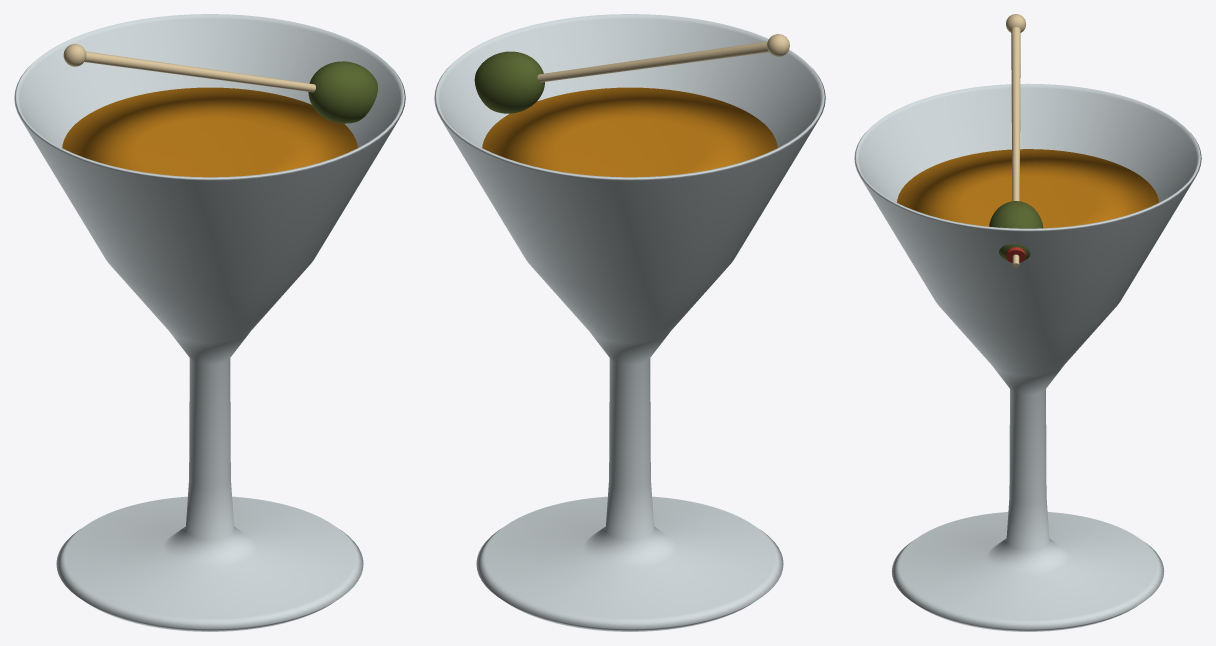
Rendered from cocktail-glass.glb.
3 views of the same model, side by side, from view 1: azimuth 30°, elevation 25°; view 2: azimuth 150°, elevation 25°; view 3: azimuth 270°, elevation 25° (orthographic). The views are drawn at different scales.
Parts seen in each view (by area): view 1: glass_bowl, cocktail_fill, olive, cocktail_pick; view 2: glass_bowl, cocktail_fill, olive, cocktail_pick; view 3: glass_bowl, cocktail_fill, cocktail_pick, olive.
Boxes of the visible parts, left/top/right/bottom form: glass_bowl: left=14, top=14, right=405, bottom=631; cocktail_fill: left=62, top=87, right=357, bottom=177; olive: left=308, top=61, right=377, bottom=123; cocktail_pick: left=84, top=51, right=315, bottom=92; glass_bowl: left=434, top=14, right=825, bottom=631; cocktail_fill: left=482, top=87, right=777, bottom=177; olive: left=474, top=51, right=544, bottom=113; cocktail_pick: left=537, top=41, right=768, bottom=82; glass_bowl: left=854, top=83, right=1201, bottom=631; cocktail_fill: left=897, top=149, right=1158, bottom=228; cocktail_pick: left=1011, top=27, right=1020, bottom=267; olive: left=989, top=201, right=1043, bottom=260.
Bounding box in the file's own units: 0.117 × 0.1848 × 0.116.
